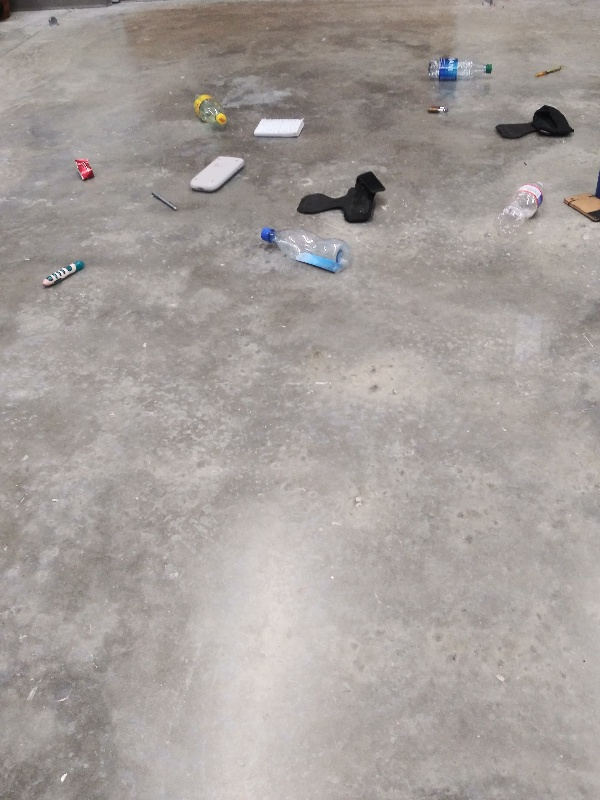bottle: (257, 222, 349, 275), (494, 174, 549, 242), (424, 54, 495, 85), (187, 87, 230, 128)
